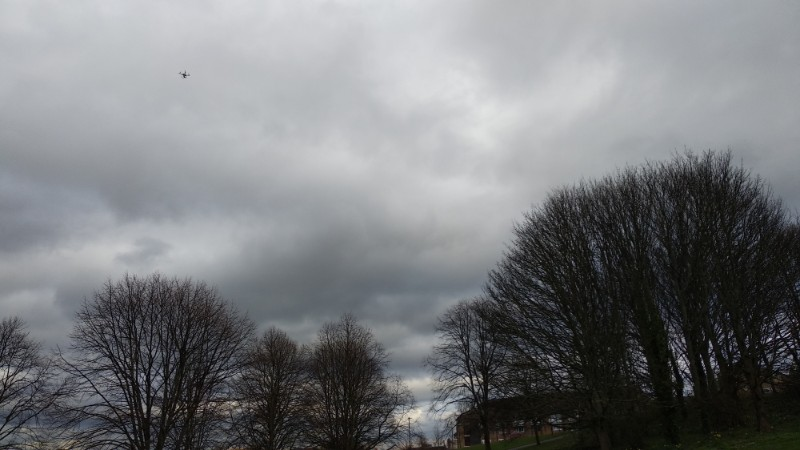drone: (177, 69, 191, 79)
